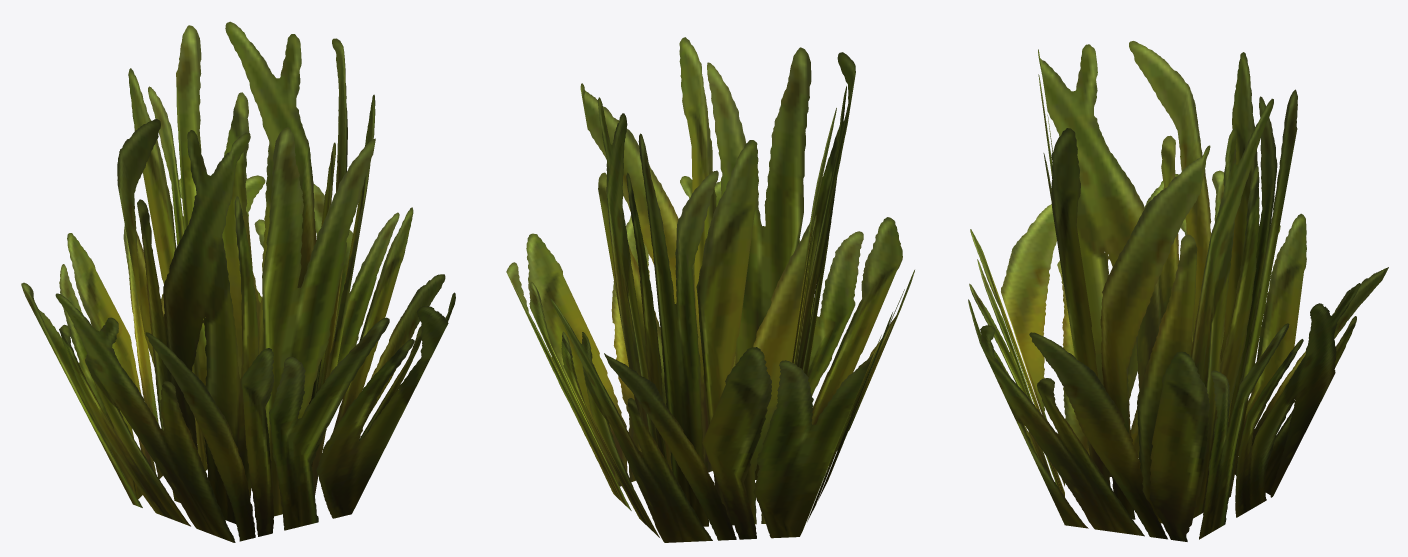
Rendered from wetlandgrass02.glb.
3 views of the same model, side by side, from view 1: azimuth 30°, elevation 25°; view 2: azimuth 150°, elevation 25°; view 3: azimuth 270°, elevation 25° (orthographic).
Bounding box in the file's own units: 0.8968 × 0.9324 × 0.8529.
1 material, 1 textured.
